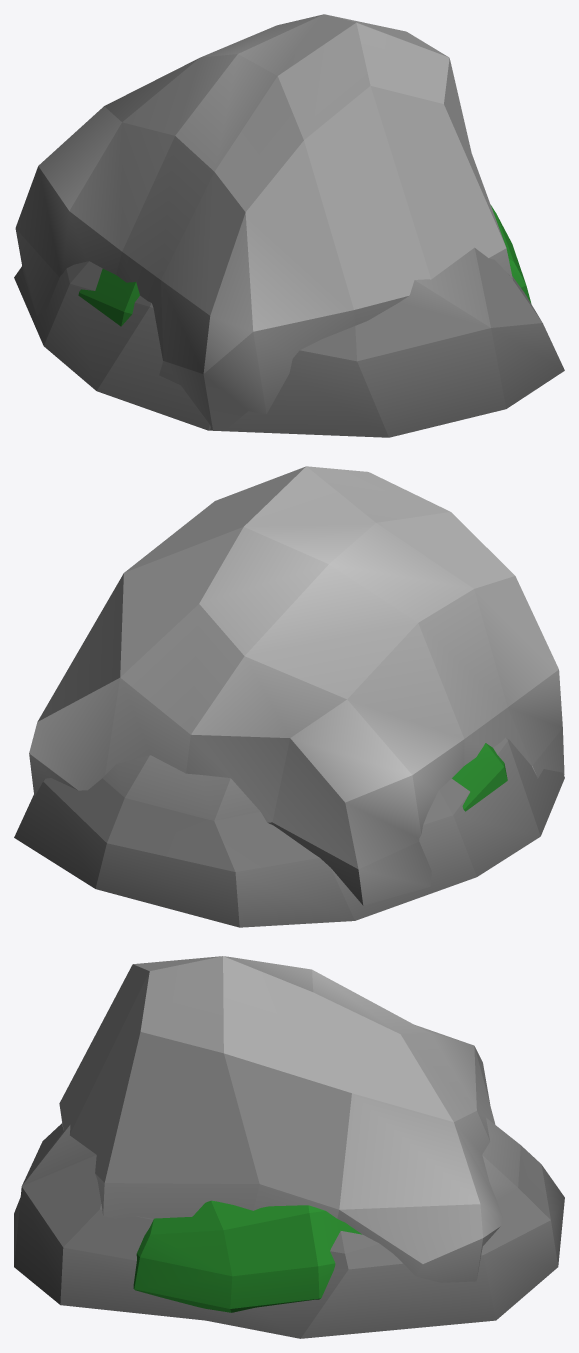
Rendered from objetospipeline.fbx.
3 renders of one model, top to bottom at view 1: azimuth 30°, elevation 25°; view 2: azimuth 150°, elevation 25°; view 3: azimuth 270°, elevation 25°, orthographic. The views are drawn at different scales.
Parts seen in each view (by area): view 1: pedra2, pedra, arbusto; view 2: pedra2, pedra, arbusto; view 3: pedra2, pedra, arbusto.
Part boxes in pixels (<box>): pedra2: <box>15,14,512,430</box>; pedra: <box>14,247,564,437</box>; arbusto: <box>78,205,531,326</box>; pedra2: <box>29,466,564,905</box>; pedra: <box>14,737,564,927</box>; arbusto: <box>452,743,507,811</box>; pedra2: <box>59,956,502,1282</box>; pedra: <box>14,1118,564,1338</box>; arbusto: <box>133,1200,361,1312</box>.
Bounding box in the file's own units: 244 × 171 × 279.
